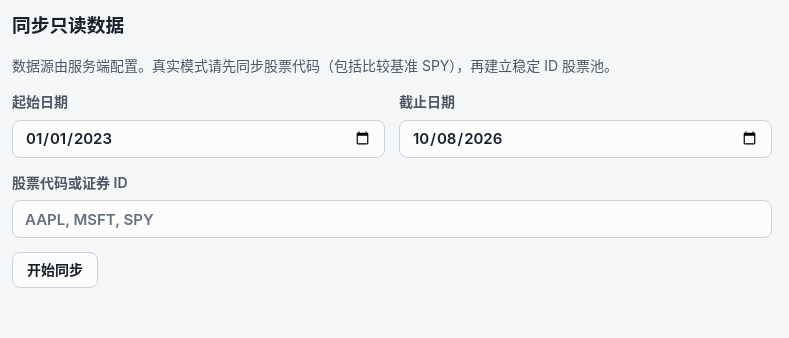
Test: shows translated sync progress states
Type "AAPL" into the field labelled "股票代码或证券 ID" at (392, 219), box x1=12 y1=200 x2=772 y2=238
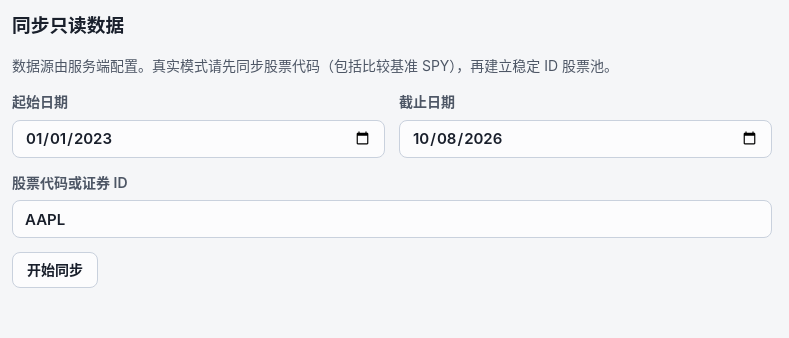
Click the button "开始同步" at (55, 270), box x1=12 y1=252 x2=98 y2=288
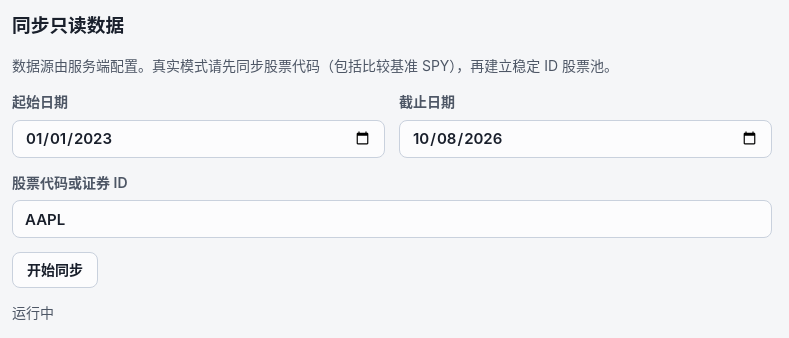
Check: the text "运行中" is shown, box x1=12 y1=304 x2=54 y2=321
